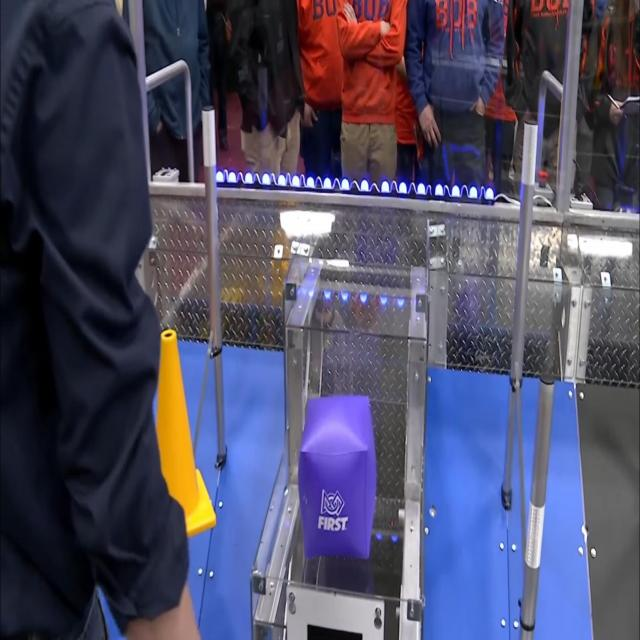frc_cone: (153, 331, 215, 539)
frc_cube: (300, 393, 378, 560)
